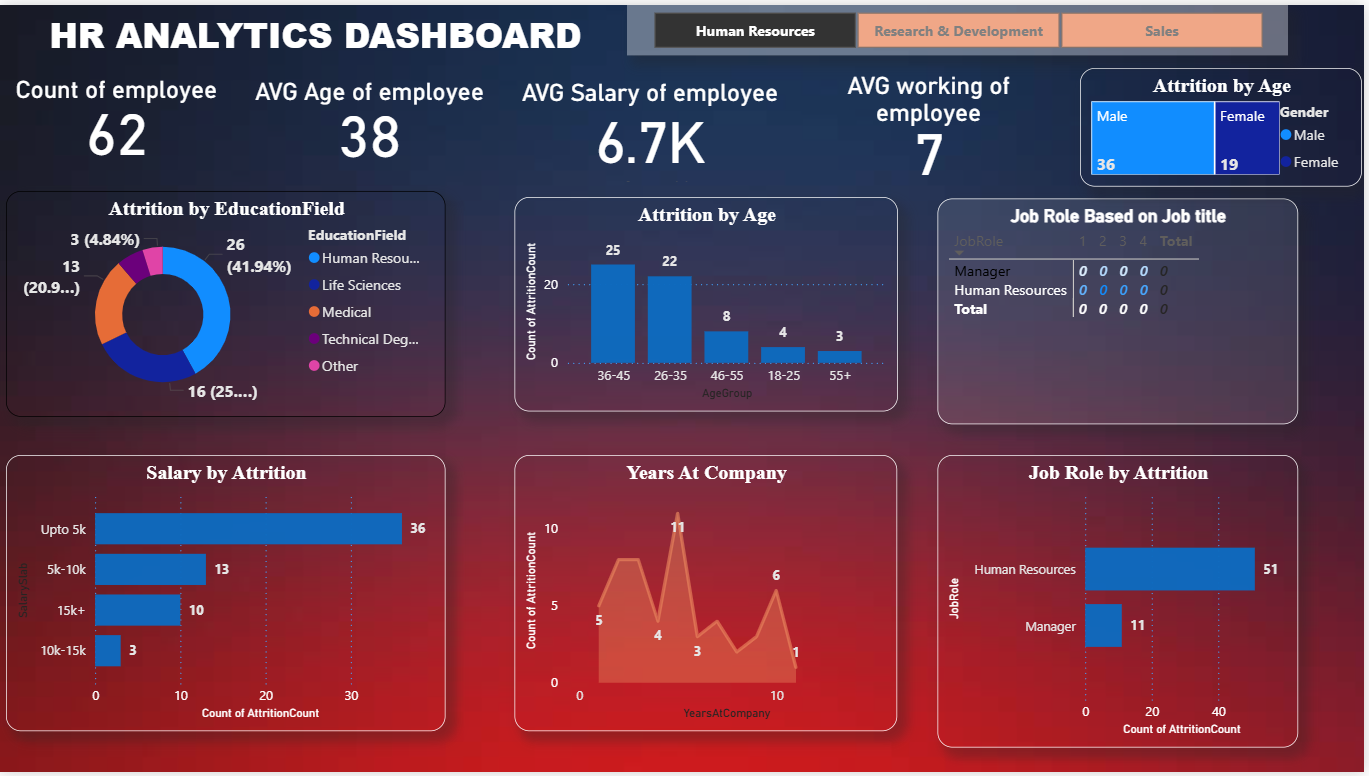

What the dashboard file says about the page in this screenshot:
{"tool":"powerbi","page":{"name":"Page 1","canvas":[1280,720],"ordinal":0},"visuals":[{"type":"card","title":"Count of employee","fields":{"Values":["CountNonNull(HR_Analytics.EmpID)"]},"box":[5.2,65.8,207.4,92.4],"z":0},{"type":"card","title":"AVG Age of employee","fields":{"Values":["Avg(HR_Analytics.Age)"]},"box":[232.8,68.1,229,92.7],"z":1000},{"type":"card","title":"AVG Salary of employee","fields":{"Values":["Avg(HR_Analytics.MonthlyIncome)"]},"box":[482.6,70,255.5,92.7],"z":2000},{"type":"card","title":"AVG working of employee","fields":{"Values":["Avg(HR_Analytics.YearsAtCompany)"]},"box":[745.7,62.5,253.6,111.7],"z":3000},{"type":"donutChart","title":"Attrition by EducationField","fields":{"Y":["CountNonNull(HR_Analytics.AttritionCount)"],"Category":["HR_Analytics.EducationField"]},"box":[6.2,174.5,413,211.9],"z":4000},{"type":"clusteredColumnChart","title":"Attrition by Age","fields":{"Category":["HR_Analytics.AgeGroup"],"Y":["CountNonNull(HR_Analytics.AttritionCount)"]},"box":[483.1,180.8,360,201],"z":5000},{"type":"pivotTable","title":"Job Role Based on Job title","fields":{"Rows":["HR_Analytics.JobRole"],"Columns":["HR_Analytics.JobSatisfaction"],"Values":["Min(HR_Analytics.AttritionCount)"]},"box":[880,181.7,338.8,212],"z":6000},{"type":"barChart","title":"Salary by Attrition ","fields":{"Category":["HR_Analytics.SalarySlab"],"Y":["CountNonNull(HR_Analytics.AttritionCount)"]},"box":[5.7,422,412.6,259.3],"z":7000},{"type":"barChart","title":"Job Role by Attrition","fields":{"Category":["HR_Analytics.JobRole"],"Y":["CountNonNull(HR_Analytics.AttritionCount)"]},"box":[880,422,338.8,274.4],"z":8000},{"type":"areaChart","title":"Years At Company","fields":{"Category":["HR_Analytics.YearsAtCompany"],"Y":["CountNonNull(HR_Analytics.AttritionCount)"]},"box":[482.6,422,359.6,259.3],"z":8001},{"type":"treemap","title":"Attrition by Age","fields":{"Group":["HR_Analytics.Gender"],"Values":["CountNonNull(HR_Analytics.AttritionCount)"]},"box":[1014.4,58.7,265,111.7],"z":8002},{"type":"slicer","fields":{"Values":["HR_Analytics.Department"]},"box":[588.6,0,620.8,47.3],"z":8003},{"type":"textbox","box":[0,0,592.4,58.7],"z":8004}]}

Visuals, with their boxes in screenshot pixels (x1, y1, x2, y2), scaled from the page's 1280x720 canvas onto the 1369x776 screenshot:
"Count of employee" card: 6:71:227:171
"AVG Age of employee" card: 249:73:494:173
"AVG Salary of employee" card: 516:75:789:175
"AVG working of employee" card: 798:67:1069:188
"Attrition by EducationField" donutChart: 7:188:448:416
"Attrition by Age" clusteredColumnChart: 517:195:902:411
"Job Role Based on Job title" pivotTable: 941:196:1304:424
"Salary by Attrition " barChart: 6:455:447:734
"Job Role by Attrition" barChart: 941:455:1304:751
"Years At Company" areaChart: 516:455:901:734
"Attrition by Age" treemap: 1085:63:1368:184
slicer - HR_Analytics.Department: 630:0:1293:51
textbox: 0:0:634:63
